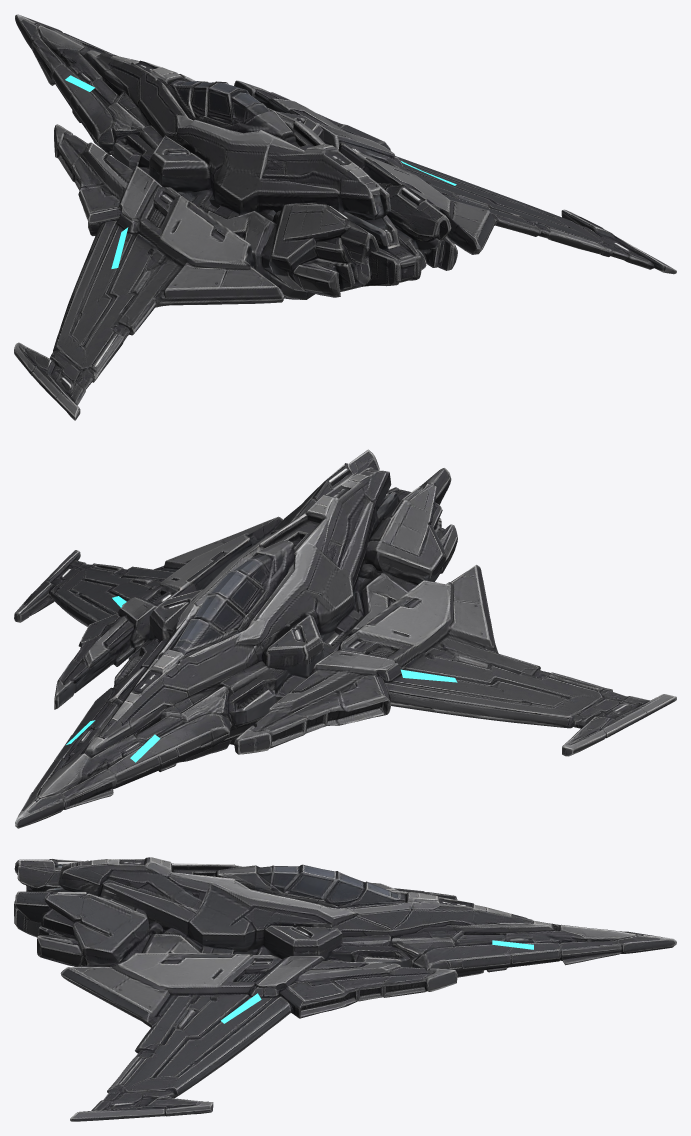
File: asterion.glb
3 views of the same model, one above another, from view 1: azimuth 30°, elevation 25°; view 2: azimuth 150°, elevation 25°; view 3: azimuth 270°, elevation 25° (orthographic). The views are drawn at different scales.
Visible parts, largest first — view 1: Mesh_0; view 2: Mesh_0; view 3: Mesh_0.
Boxes of the visible parts, <box> form: Mesh_0: <box>14,14,676,420</box>; Mesh_0: <box>14,449,676,828</box>; Mesh_0: <box>14,857,676,1121</box>.
Size of the model in its own units: 1.68 by 0.4509 by 1.9.
2 materials, 1 textured.
